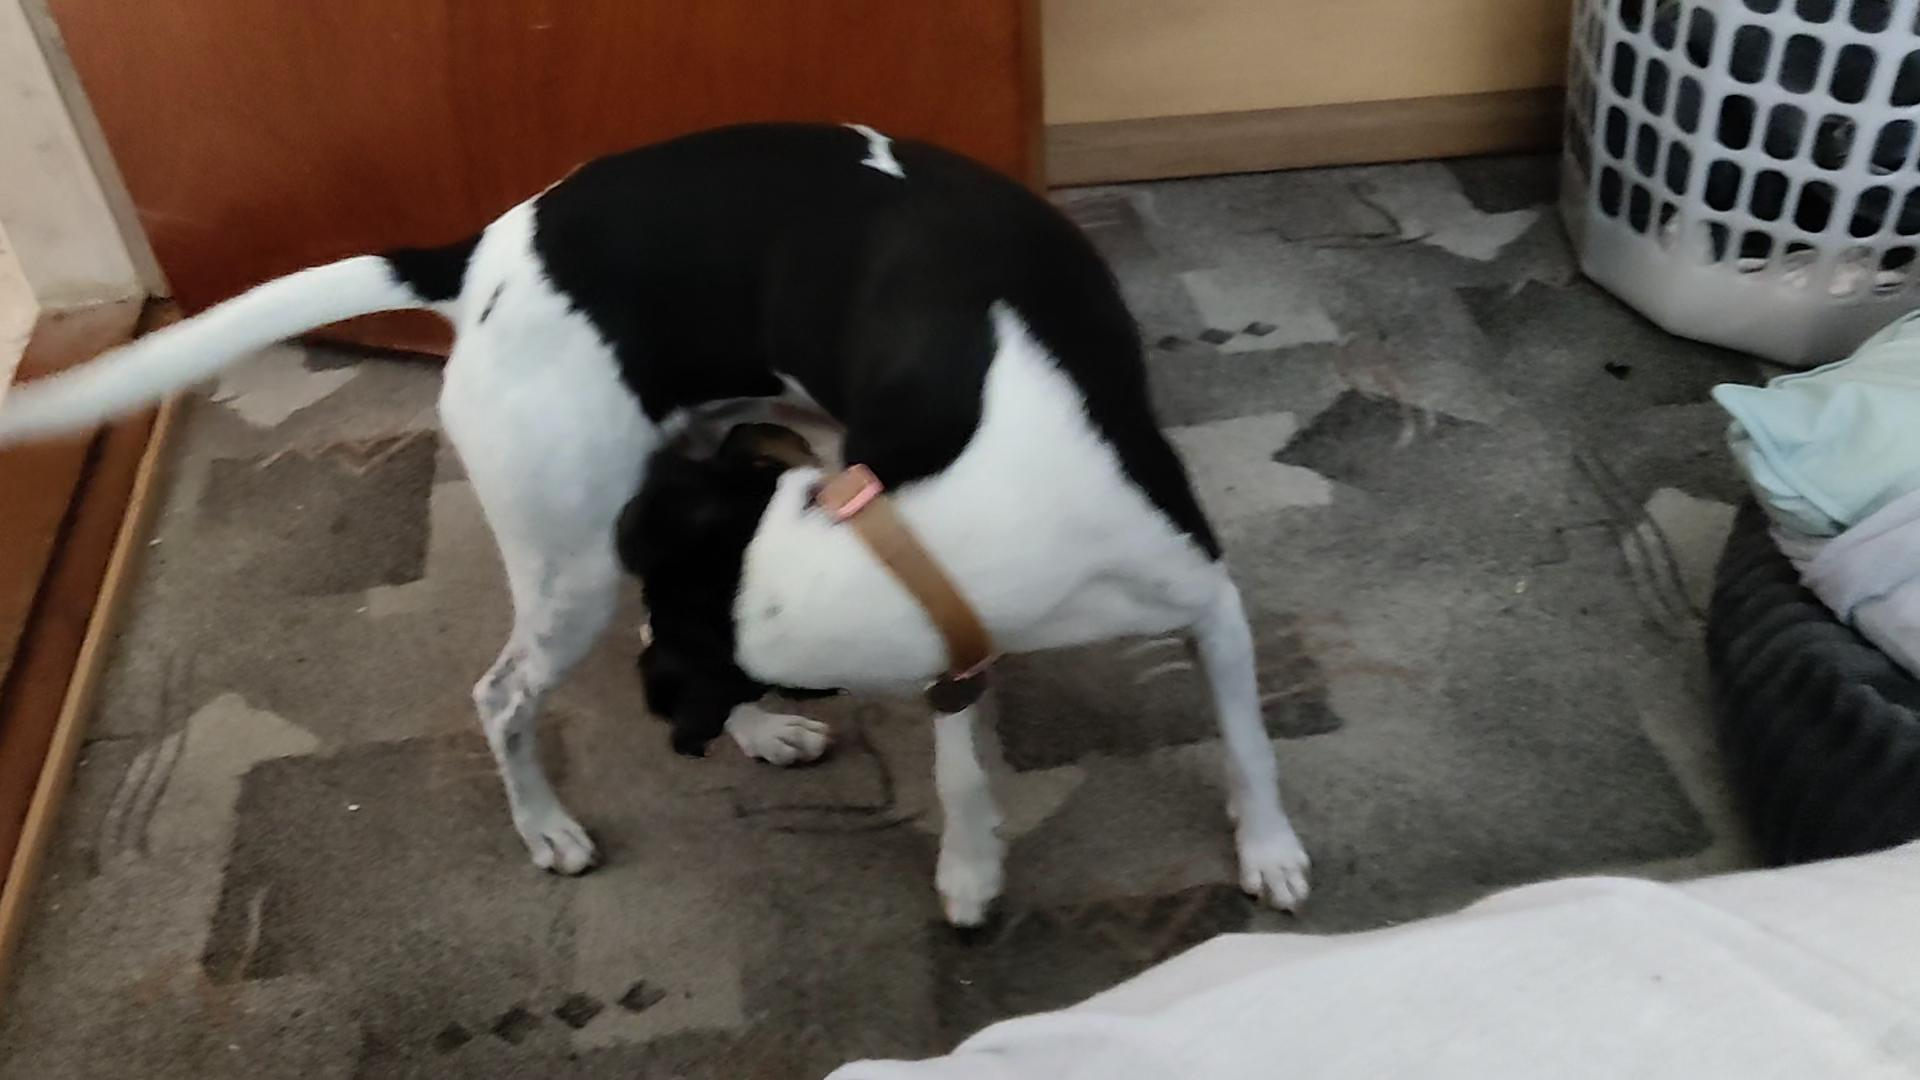Dog: (0, 115, 1345, 934)
